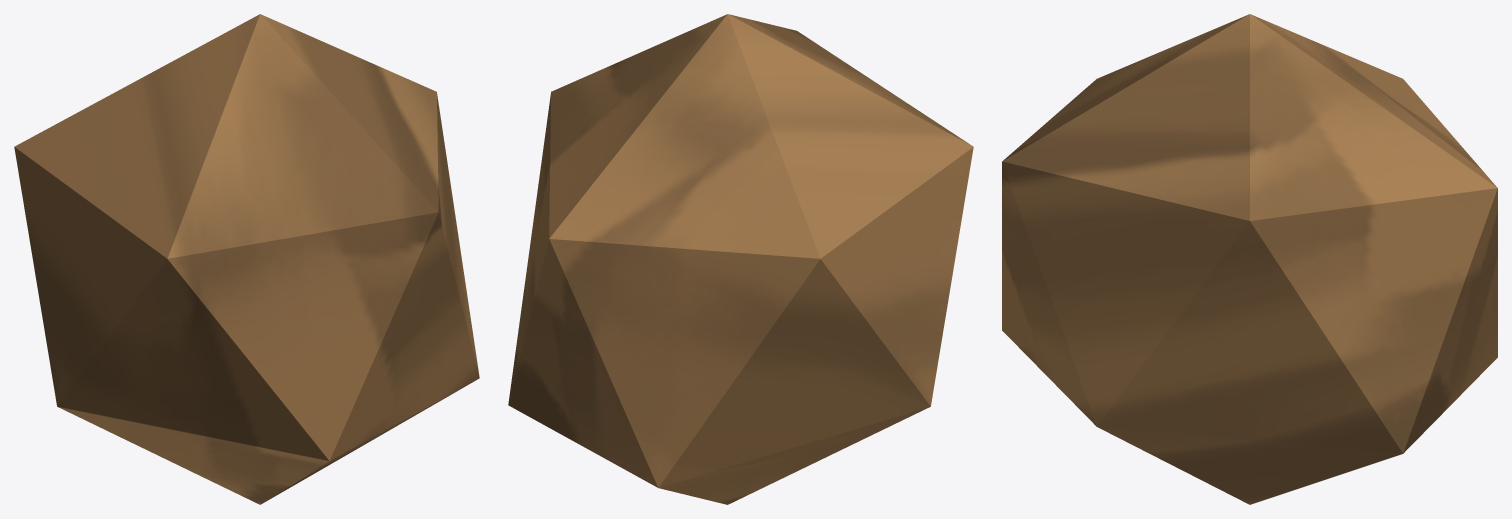
The model's file is DirtParticle.fbx.
The picture shows the model from 3 angles, left to right: view 1: azimuth 30°, elevation 25°; view 2: azimuth 150°, elevation 25°; view 3: azimuth 270°, elevation 25°; orthographic projection.
Parts seen in each view (by area): view 1: Dirt Particle; view 2: Dirt Particle; view 3: Dirt Particle.
Boxes of the visible parts, box(x1,y1,x2,y2) form: Dirt Particle: box(14, 14, 479, 504); Dirt Particle: box(508, 14, 973, 504); Dirt Particle: box(1002, 14, 1497, 504).
Size of the model in its own units: 242 by 299 by 274.
